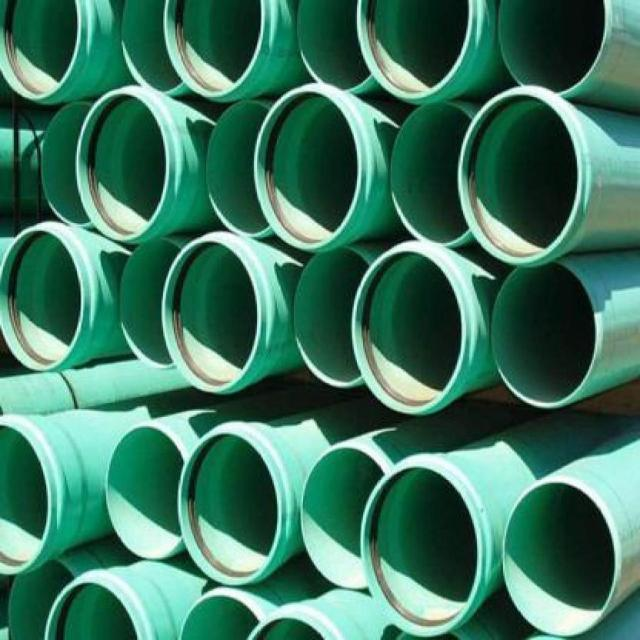pipe: (457, 91, 582, 264), (360, 463, 483, 637), (352, 248, 466, 413), (502, 479, 619, 639), (254, 86, 363, 251), (177, 431, 285, 587), (161, 236, 263, 391), (491, 263, 598, 409), (75, 90, 169, 242), (0, 228, 86, 373), (301, 447, 386, 589), (357, 0, 475, 102), (390, 102, 470, 247), (106, 424, 186, 560), (498, 0, 609, 94), (292, 248, 365, 388), (163, 0, 264, 98), (206, 100, 272, 239), (118, 236, 183, 370), (0, 0, 83, 102), (0, 419, 54, 575), (297, 1, 374, 92), (41, 100, 95, 228), (4, 558, 80, 640), (45, 578, 142, 640), (122, 0, 185, 94), (181, 592, 263, 640), (244, 615, 331, 640)
